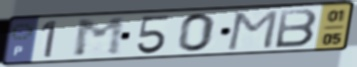0: (174, 12, 221, 54)
1: (38, 19, 58, 60)
5: (135, 13, 173, 56)
B: (273, 7, 320, 50)
M: (224, 9, 281, 52), (72, 15, 127, 59)
